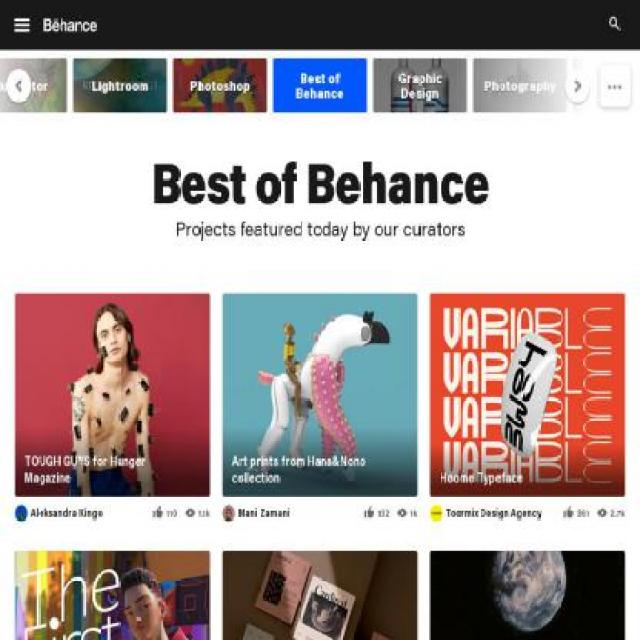button: (24, 450, 191, 488), (232, 450, 399, 488), (0, 0, 45, 51), (37, 8, 103, 41), (439, 468, 524, 488), (72, 99, 168, 113), (172, 99, 268, 113), (272, 99, 368, 113), (372, 99, 468, 113), (472, 99, 568, 113), (0, 98, 68, 114), (572, 99, 640, 115), (604, 9, 624, 40)
